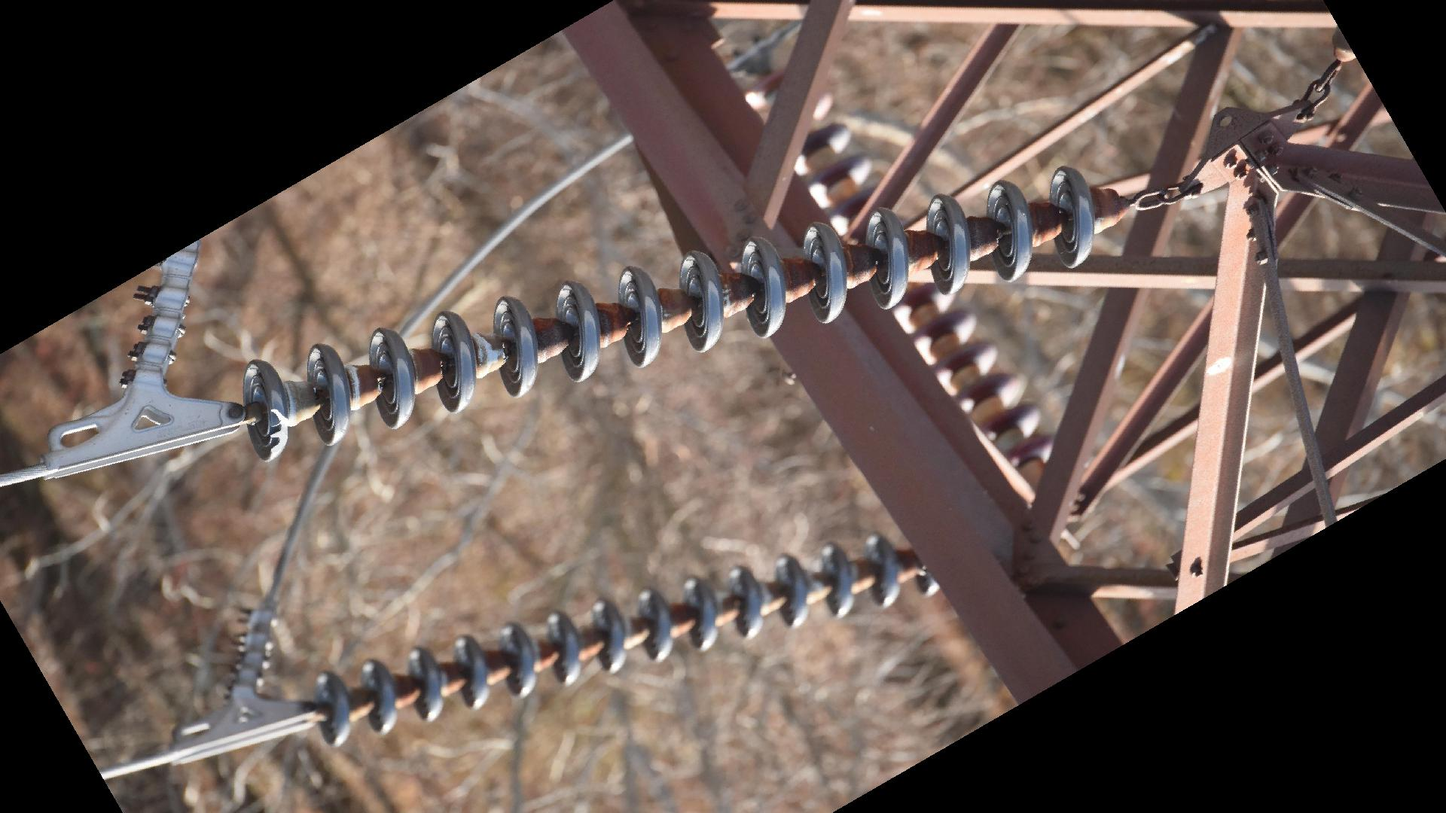insulator: (237, 157, 1100, 467), (311, 526, 939, 754), (892, 281, 1061, 473), (792, 115, 877, 216)
insulator_breakage: (265, 405, 291, 460)
